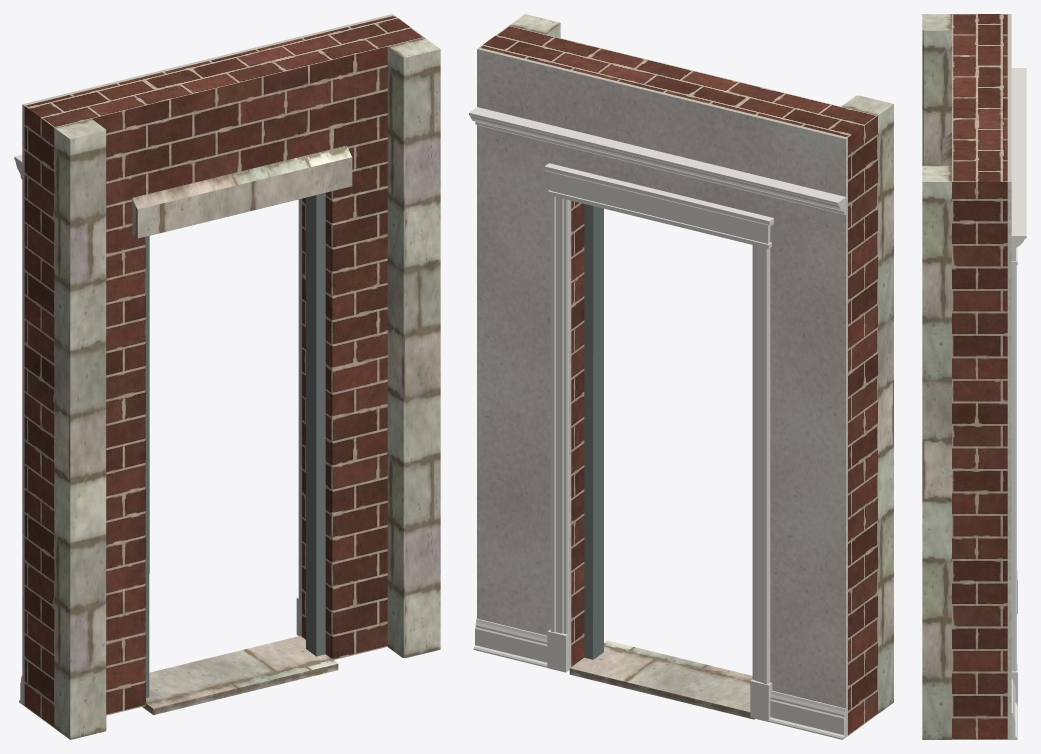
Rendered from f_door.glb.
The picture shows the model from 3 angles, left to right: view 1: azimuth 30°, elevation 25°; view 2: azimuth 150°, elevation 25°; view 3: azimuth 270°, elevation 25°; orthographic projection. The views are drawn at different scales.
Visible parts, largest first — view 1: f_door_brick_d, f_door_stone, f_door_frame, f_door_plaster, molduras; view 2: f_door_plaster, molduras, f_door_brick_d, f_door_stone, f_door_frame; view 3: f_door_brick_d, f_door_stone, molduras, f_door_plaster.
Part boxes in pixels (bbox=[...]): f_door_brick_d: bbox=[24, 15, 424, 727]; f_door_stone: bbox=[54, 37, 440, 739]; f_door_frame: bbox=[146, 193, 325, 697]; f_door_plaster: bbox=[22, 14, 394, 705]; molduras: bbox=[14, 154, 299, 704]; f_door_plaster: bbox=[477, 47, 847, 737]; molduras: bbox=[469, 107, 845, 739]; f_door_brick_d: bbox=[479, 25, 877, 735]; f_door_stone: bbox=[509, 14, 893, 719]; f_door_frame: bbox=[584, 204, 603, 659]; f_door_brick_d: bbox=[952, 14, 1007, 739]; f_door_stone: bbox=[922, 14, 951, 739]; molduras: bbox=[1011, 68, 1026, 739]; f_door_plaster: bbox=[1007, 14, 1011, 739].
Size of the model in its own units: 2 by 3.12 by 0.525.
5 materials, 3 textured.
